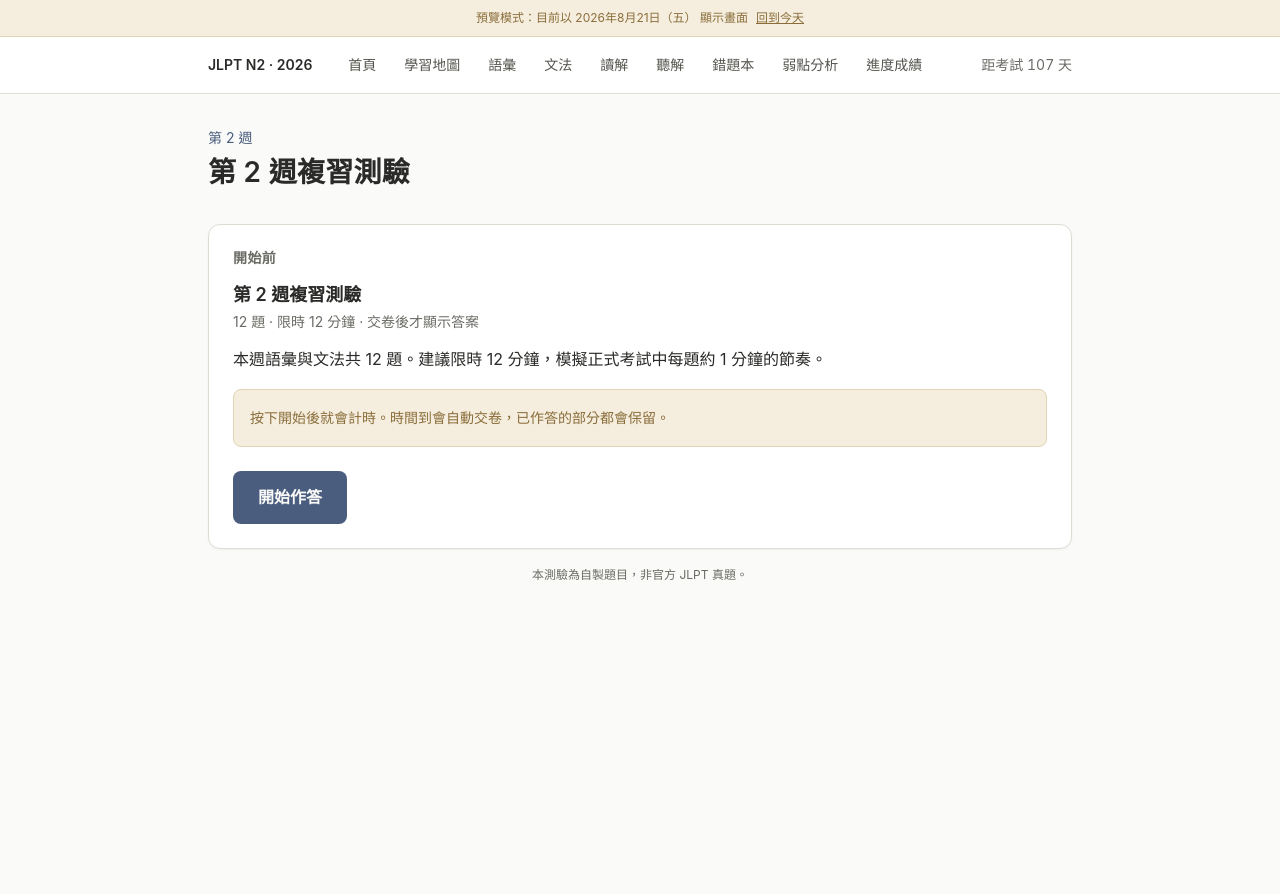
Test: 測驗作答流程 › 開始前顯示題數與限時，按下開始才計時
Expected: the text "12 題 · 限時 12 分鐘 · 交卷後才顯示答案" is shown, [233,314,479,330]
Expected: the text "本測驗為自製題目，非官方 JLPT 真題。" is shown, [532,567,748,582]
What coordinates should you click on to do the following:
click the button "開始作答"
I would click on:
 (290, 498)
Its box is [233,471,347,524].
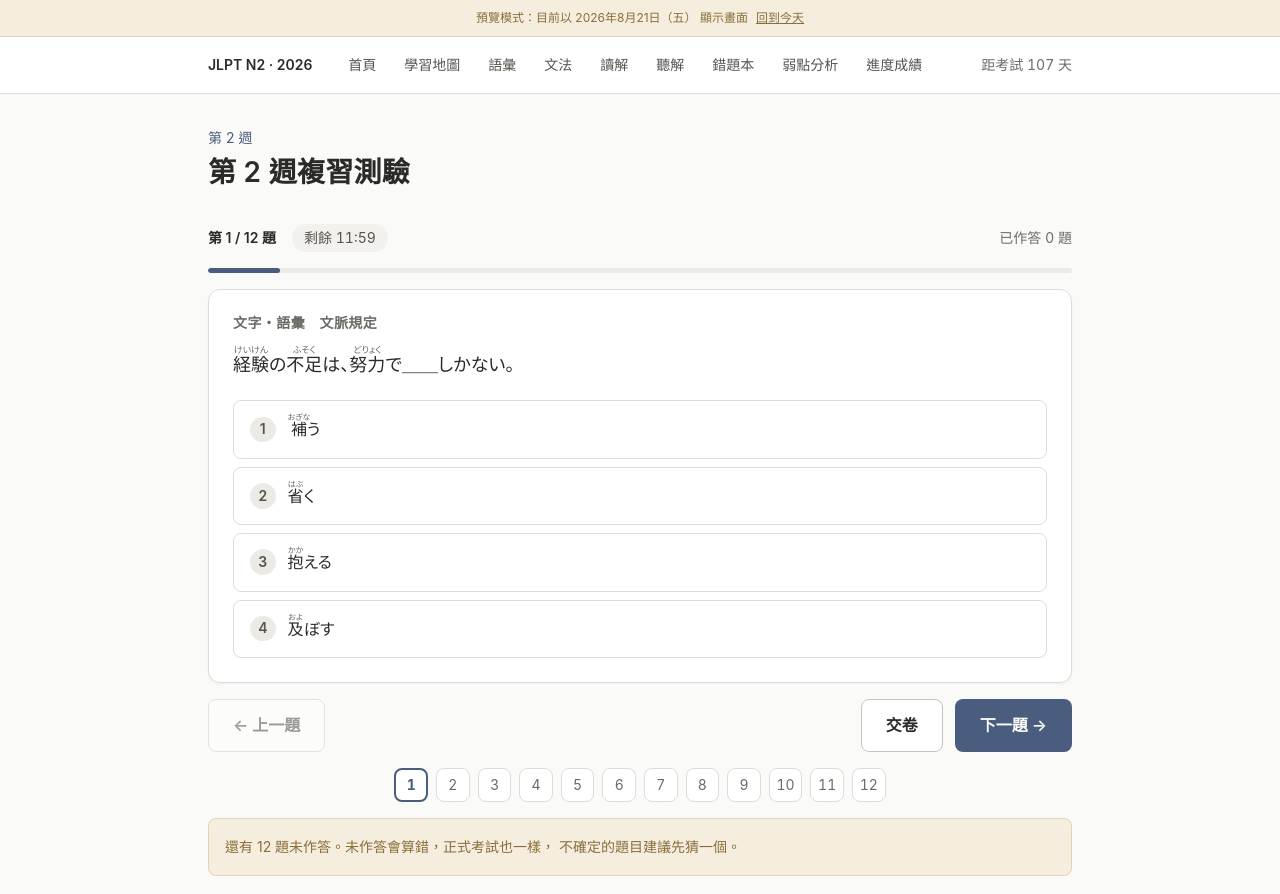
Now the text "第 1 / 12 題" is shown, box [208,226,276,250]
Now the text "剩餘 11:59" is shown, box [292,224,388,252]
